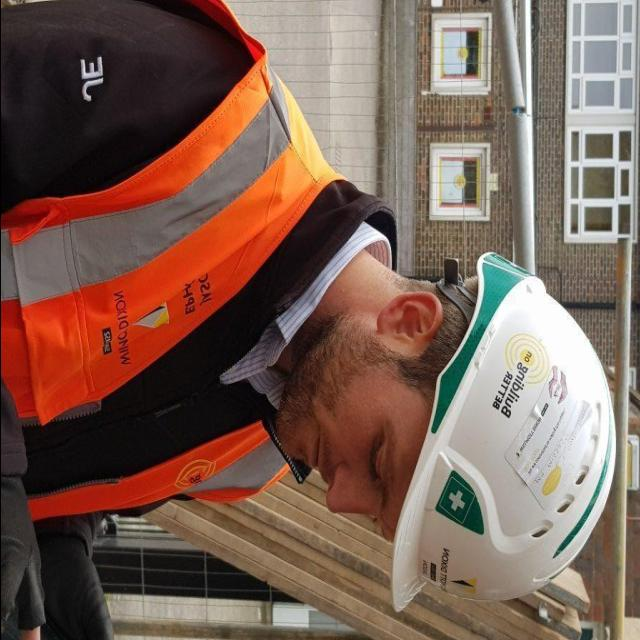helmet: (382, 237, 609, 633)
